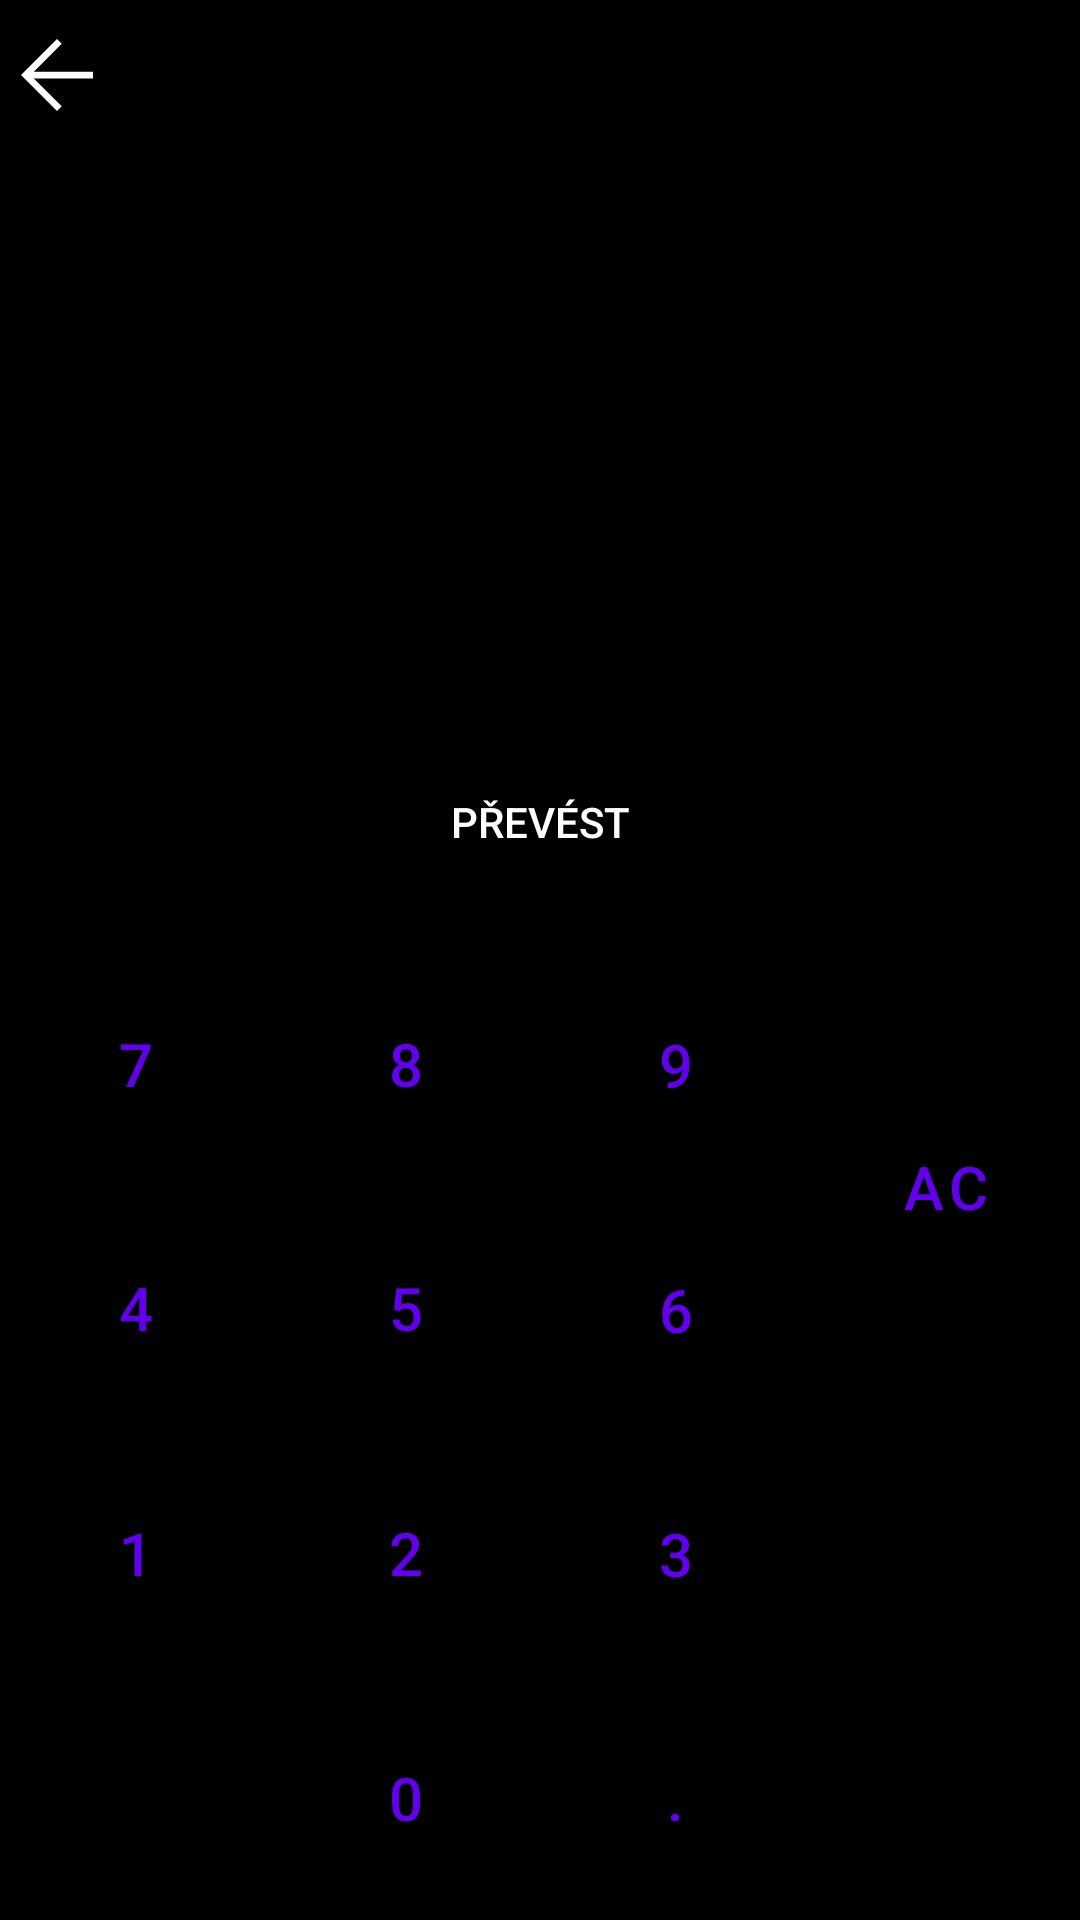

Icon click points for this 1080w x 1920h phone screenshot, format point (x, y):
arrow back: point (57, 75)
